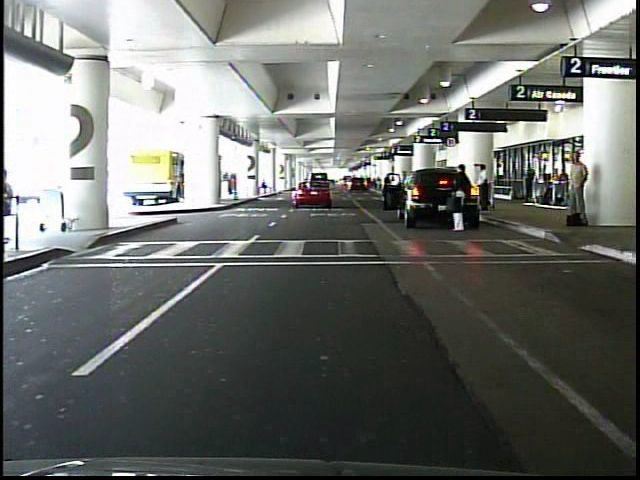person: (0, 171, 24, 232), (450, 165, 470, 235), (474, 163, 491, 213), (523, 162, 535, 201)
